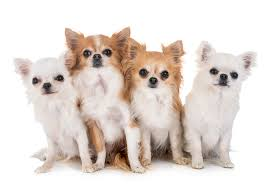Bulldog: (10, 49, 90, 174), (62, 25, 129, 170), (126, 41, 192, 170), (188, 36, 251, 171)
